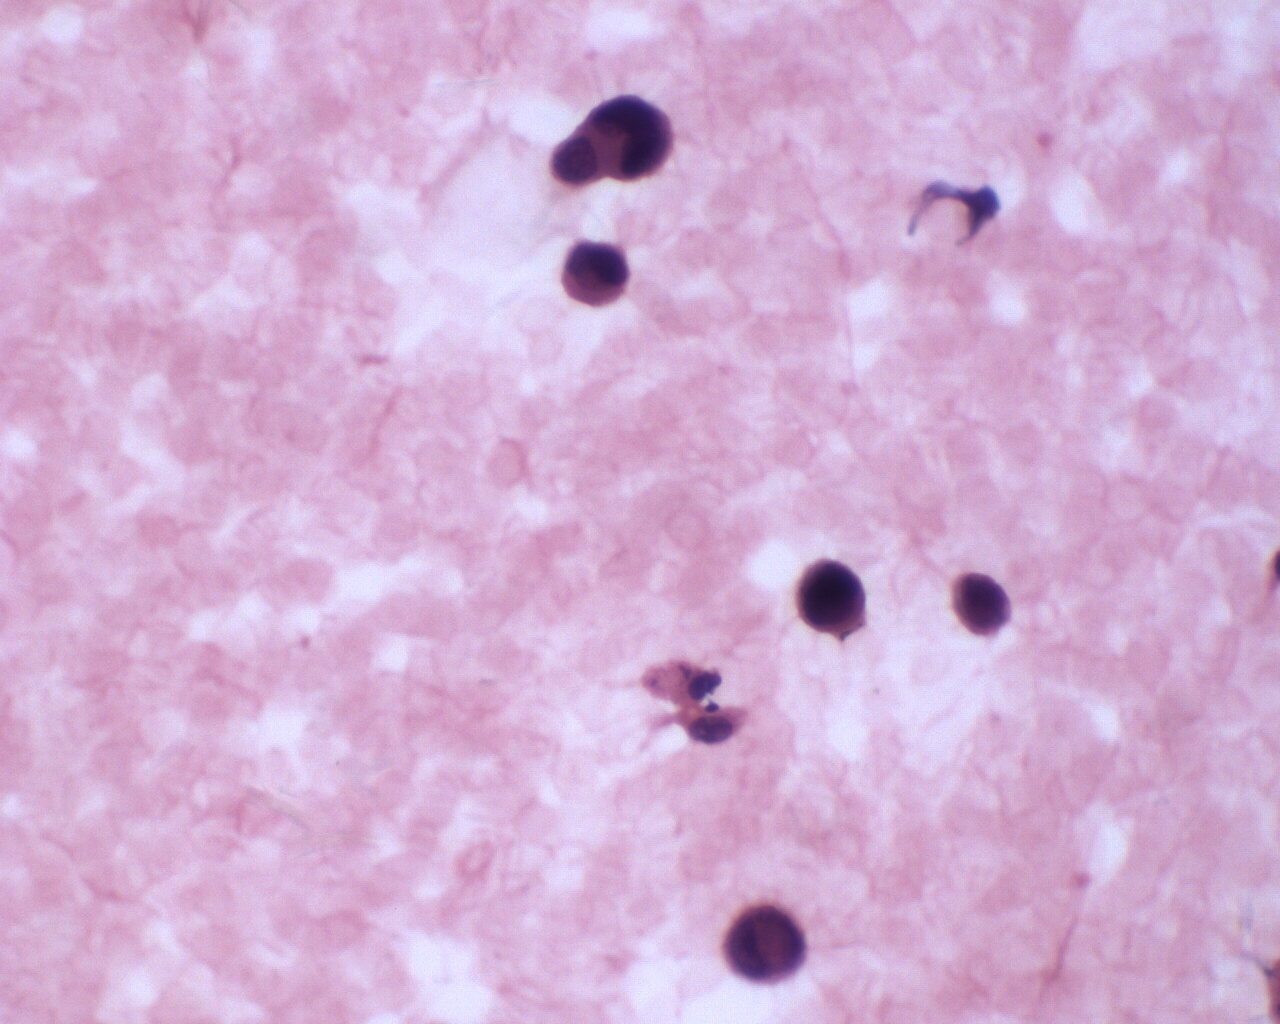ab: (715, 899, 811, 992), (788, 557, 867, 644), (946, 565, 1018, 641), (561, 237, 634, 310)
